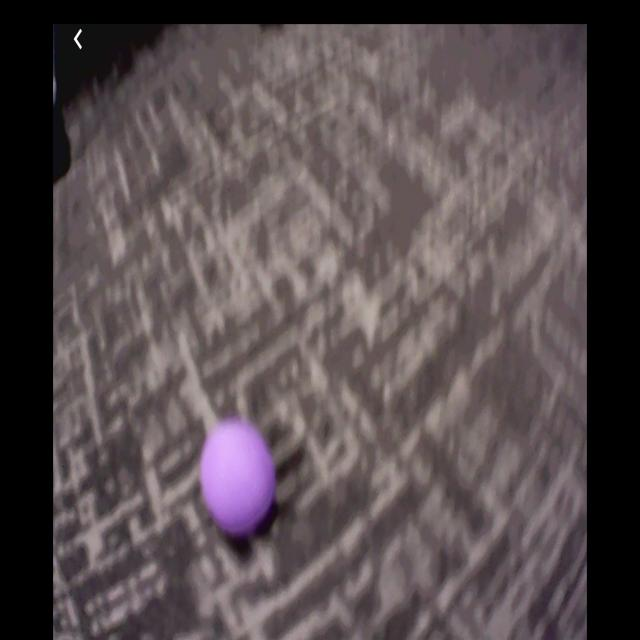ball: (200, 421, 274, 535)
